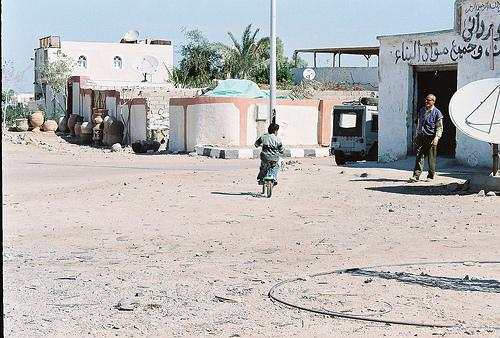car: (259, 161, 279, 198)
person: (407, 89, 446, 184), (253, 119, 288, 189)
